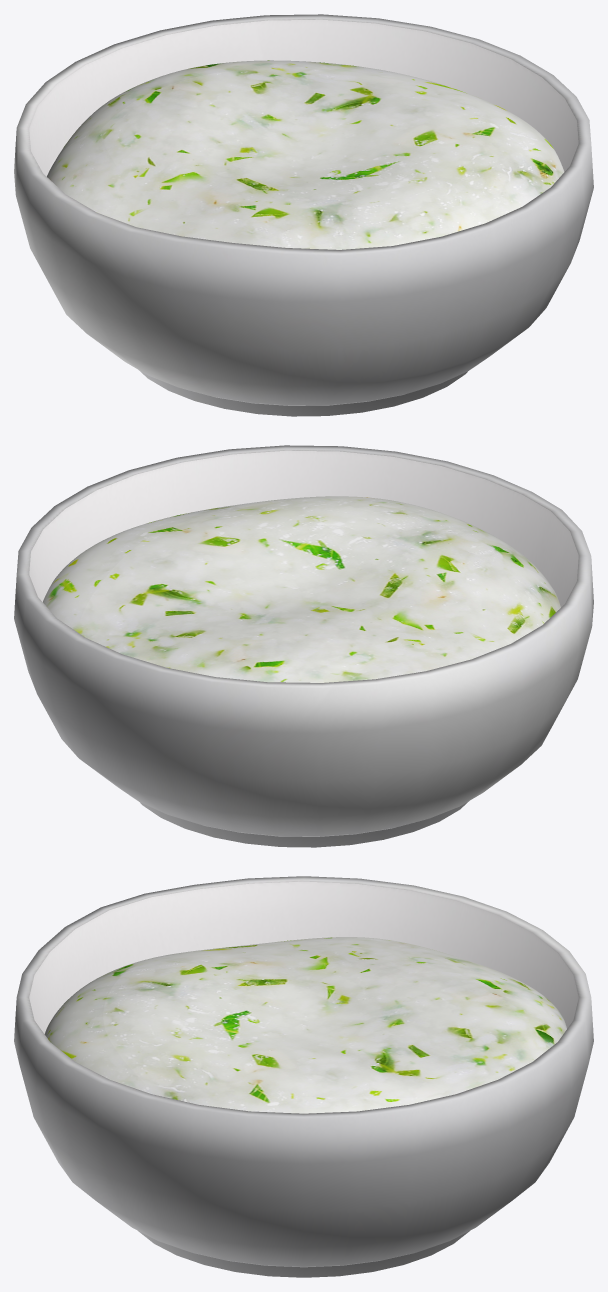
The model's file is Porridge_bowl.FBX.
3 renders of one model, top to bottom at view 1: azimuth 30°, elevation 25°; view 2: azimuth 150°, elevation 25°; view 3: azimuth 270°, elevation 25°, orthographic.
Parts seen in each view (by area): view 1: Box003; view 2: Box003; view 3: Box003.
Part boxes in pixels (x1=…): Box003: x1=14, y1=14, x2=593, y2=416; Box003: x1=14, y1=445, x2=593, y2=847; Box003: x1=14, y1=876, x2=593, y2=1277.
Bounding box in the file's own units: 28.86 × 28.86 × 11.51.
1 material, 1 textured.
